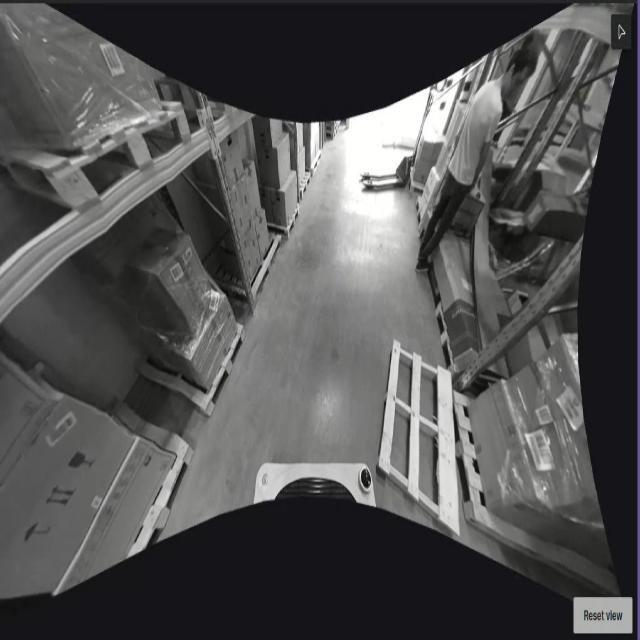Pallets-and-forklifts: (2, 93, 197, 220), (376, 341, 458, 544), (128, 415, 199, 547), (166, 317, 250, 425), (454, 417, 511, 549), (244, 233, 284, 317)
forlift: (359, 89, 438, 199)
